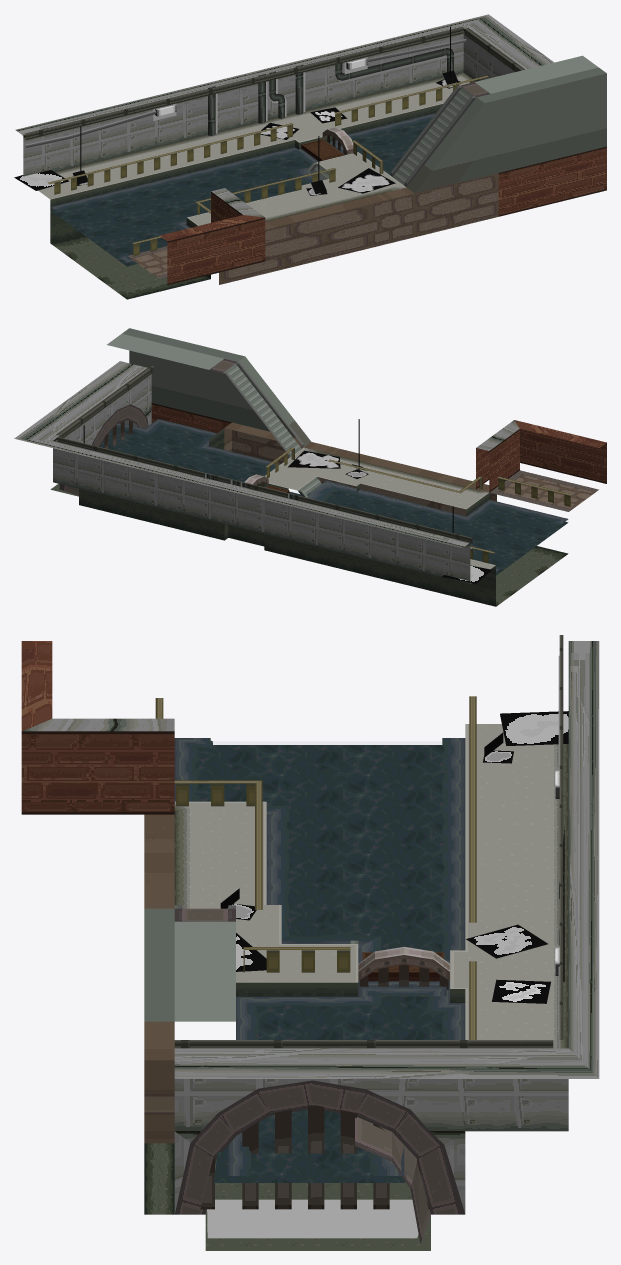
The picture shows the model from 3 angles, top to bottom: view 1: azimuth 30°, elevation 25°; view 2: azimuth 150°, elevation 25°; view 3: azimuth 270°, elevation 25°; orthographic projection. The views are drawn at different scales.
Visible parts, largest first — view 1: polygon18, polygon26, polygon19, polygon2, polygon16, polygon27, polygon11, polygon0, polygon25, polygon3, polygon24, polygon23 (+10 smaller); view 2: polygon18, polygon26, polygon2, polygon25, polygon16, polygon19, polygon11, polygon3, polygon27, polygon17, polygon0, polygon24 (+5 smaller); view 3: polygon2, polygon18, polygon27, polygon3, polygon16, polygon17, polygon26, polygon5, polygon6, polygon24, polygon19, polygon0 (+8 smaller).
Boxes of the visible parts, x1=… form: polygon18: x1=15, y1=14, x2=553, y2=217; polygon26: x1=307, y1=55, x2=606, y2=193; polygon19: x1=131, y1=173, x2=498, y2=284; polygon2: x1=51, y1=120, x2=430, y2=266; polygon16: x1=159, y1=146, x2=606, y2=285; polygon27: x1=38, y1=77, x2=469, y2=224; polygon11: x1=25, y1=27, x2=524, y2=139; polygon0: x1=47, y1=75, x2=488, y2=256; polygon25: x1=50, y1=104, x2=442, y2=278; polygon3: x1=51, y1=113, x2=435, y2=262; polygon24: x1=47, y1=99, x2=446, y2=225; polygon23: x1=55, y1=72, x2=472, y2=221; polygon18: x1=14, y1=361, x2=519, y2=583; polygon26: x1=107, y1=328, x2=321, y2=497; polygon2: x1=100, y1=425, x2=568, y2=575; polygon25: x1=79, y1=428, x2=495, y2=606; polygon16: x1=151, y1=403, x2=606, y2=492; polygon19: x1=224, y1=422, x2=594, y2=516; polygon11: x1=56, y1=365, x2=472, y2=543; polygon3: x1=116, y1=419, x2=568, y2=571; polygon27: x1=269, y1=460, x2=491, y2=569; polygon17: x1=59, y1=359, x2=598, y2=511; polygon0: x1=265, y1=447, x2=571, y2=563; polygon24: x1=264, y1=447, x2=495, y2=567; polygon2: x1=195, y1=745, x2=445, y2=1182; polygon18: x1=23, y1=641, x2=599, y2=1213; polygon27: x1=190, y1=724, x2=553, y2=1039; polygon3: x1=174, y1=738, x2=465, y2=1175; polygon16: x1=21, y1=641, x2=174, y2=814; polygon17: x1=174, y1=908, x2=465, y2=1243; polygon26: x1=144, y1=905, x2=358, y2=1021; polygon5: x1=200, y1=947, x2=449, y2=1209; polygon6: x1=207, y1=1199, x2=418, y2=1238; polygon24: x1=175, y1=724, x2=480, y2=1039; polygon19: x1=144, y1=814, x2=174, y2=1143; polygon0: x1=155, y1=696, x2=476, y2=1039.
Size of the model in its own units: 8.72 by 2 by 4.72.
